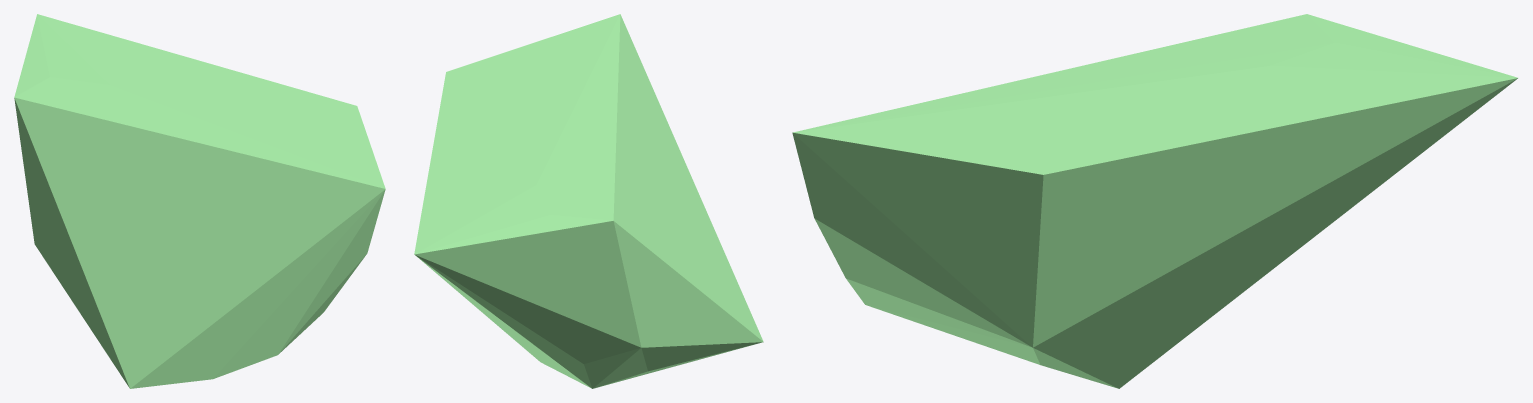
File: panda_link5_resp_coll_3.dae
3 renders of one model, left to right at view 1: azimuth 30°, elevation 25°; view 2: azimuth 150°, elevation 25°; view 3: azimuth 270°, elevation 25°, orthographic. The views are drawn at different scales.
Parts seen in each view (by area): view 1: node; view 2: node; view 3: node.
Boxes of the visible parts, x1=… form: node: x1=14, y1=14, x2=385, y2=388; node: x1=414, y1=14, x2=763, y2=388; node: x1=792, y1=14, x2=1517, y2=388.
Size of the model in its own units: 0.0682 by 0.054 by 0.1231.
